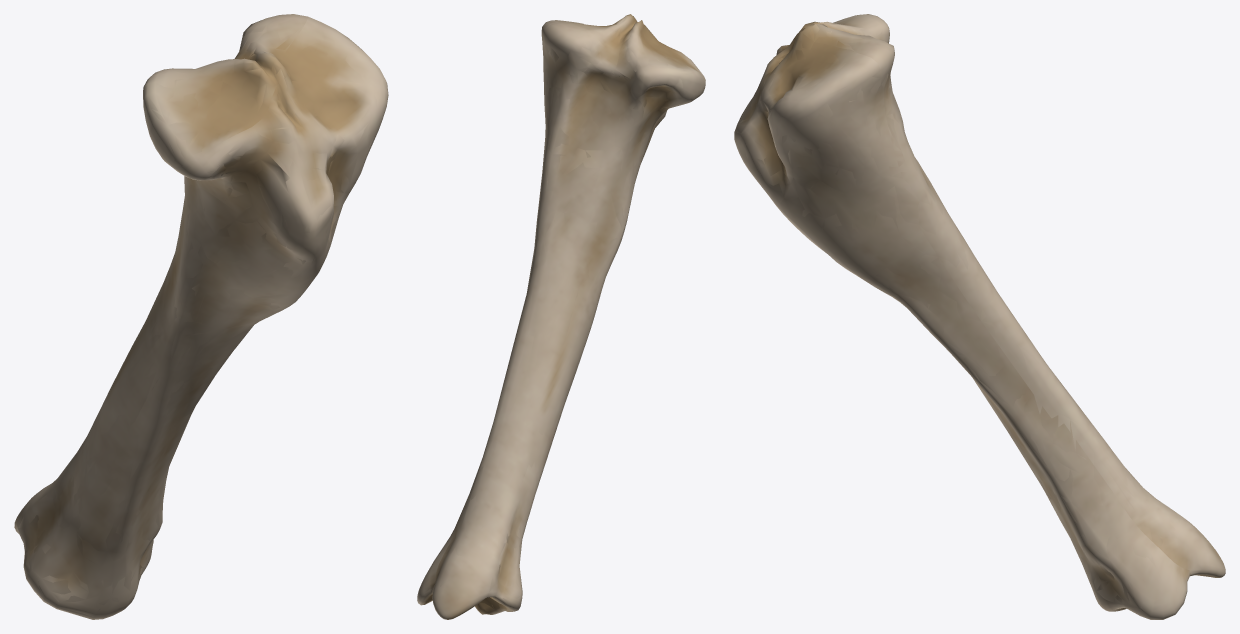
File: R Tibia.fbx
3 views of the same model, side by side, from view 1: azimuth 30°, elevation 25°; view 2: azimuth 150°, elevation 25°; view 3: azimuth 270°, elevation 25° (orthographic). The views are drawn at different scales.
Parts seen in each view (by area): view 1: R Tibia, R Tibia low; view 2: R Tibia, R Tibia low; view 3: R Tibia, R Tibia low.
Part boxes in pixels (x1=…): R Tibia: x1=14, y1=14, x2=388, y2=619; R Tibia low: x1=15, y1=14, x2=385, y2=619; R Tibia: x1=417, y1=14, x2=705, y2=619; R Tibia low: x1=419, y1=15, x2=705, y2=617; R Tibia: x1=734, y1=14, x2=1225, y2=619; R Tibia low: x1=734, y1=14, x2=1222, y2=619.
Bounding box in the file's own units: 12.89 × 40.2 × 30.79.
Materials: 1 (1 with a texture image).
